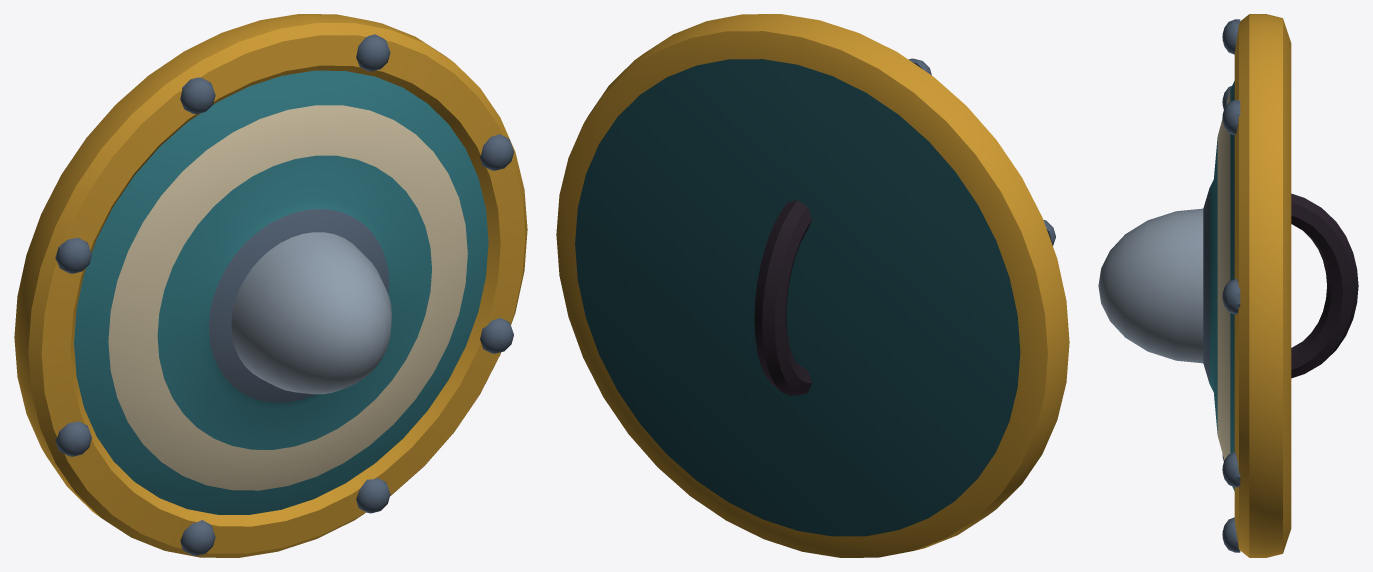
The model's file is RoundShield_03.glb.
3 views of the same model, side by side, from view 1: azimuth 30°, elevation 25°; view 2: azimuth 150°, elevation 25°; view 3: azimuth 270°, elevation 25° (orthographic). The views are drawn at different scales.
Visible parts, largest first — view 1: RoundShield_03; view 2: RoundShield_03; view 3: RoundShield_03.
Boxes of the visible parts, box(x1,y1,x2,y2) form: RoundShield_03: box(14, 14, 527, 557); RoundShield_03: box(556, 14, 1069, 557); RoundShield_03: box(1098, 14, 1358, 557).
Size of the model in its own units: 2.59 by 2.59 by 1.24.
